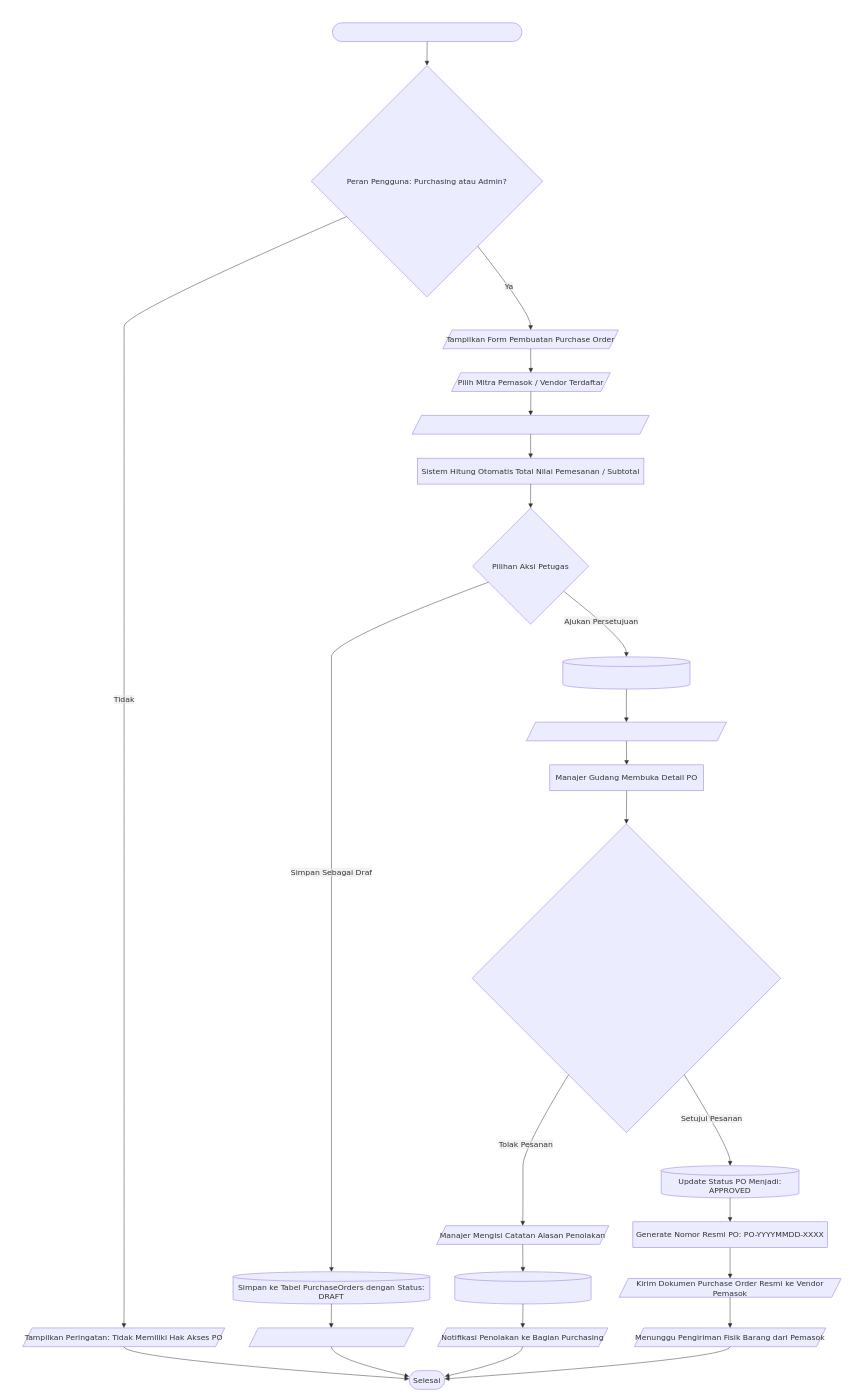
Some shapes in this 850 by 1398 pixel diagram are drawn without their labels. Each missing label, with the centre of its shape:
Evaluasi: Anggaran Mencukupi & Kuantitas Masuk Akal?: the point at 626,978
Kirim Notifikasi Tugas Approval ke Manajer Gudang: the point at 626,731
Mulai: Kebutuhan Pengadaan Barang Baru / Reorder: the point at 427,32
Simpan dengan Status: SUBMITTED: the point at 626,672
Tambahkan Baris Produk, Kuantitas Dipesan & Estimasi Harga: the point at 530,424
Tampilkan Notifikasi: Draf PO Tersimpan: the point at 331,1337
Update Status PO Menjadi: REJECTED: the point at 522,1287
